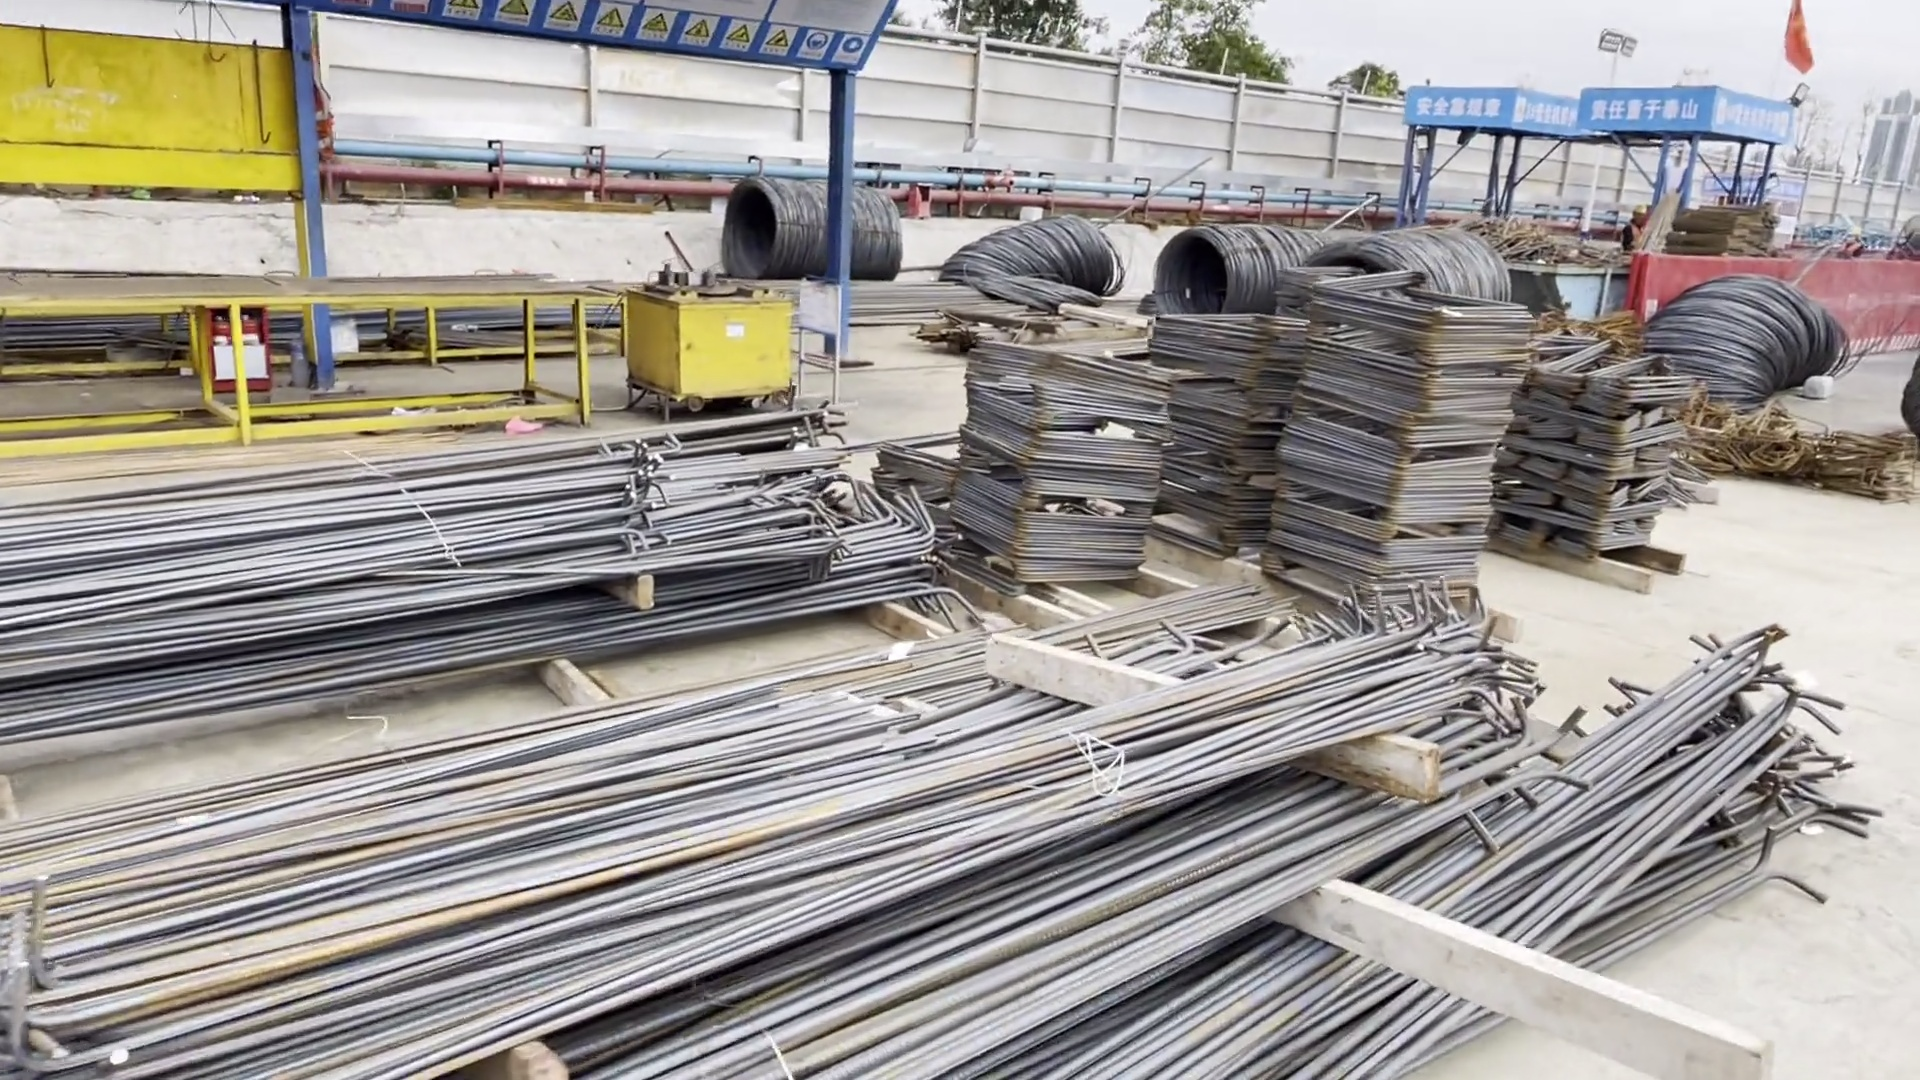cutter: (626, 271, 798, 402)
fence: (1633, 257, 1918, 347)
hopper: (1508, 255, 1618, 323)
person: (1624, 205, 1636, 241)
rebar: (2, 563, 1847, 1071), (1, 426, 938, 754)
slogan: (321, 1, 883, 75), (1408, 90, 1777, 147)
